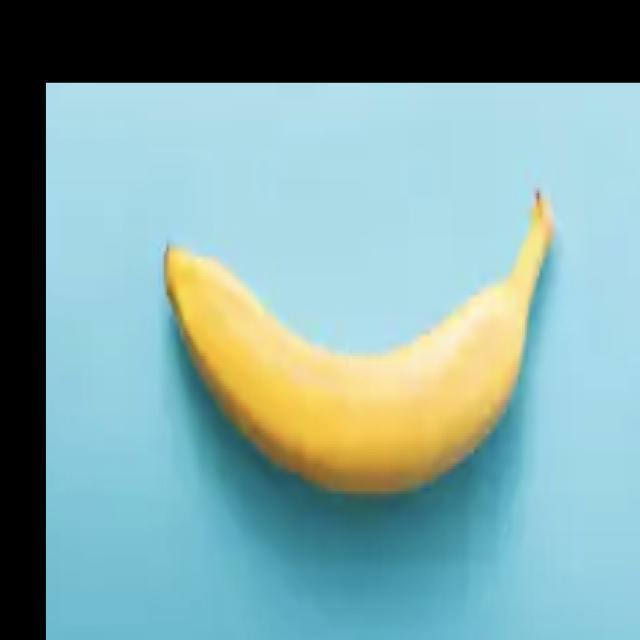Banana: (162, 186, 555, 495)
